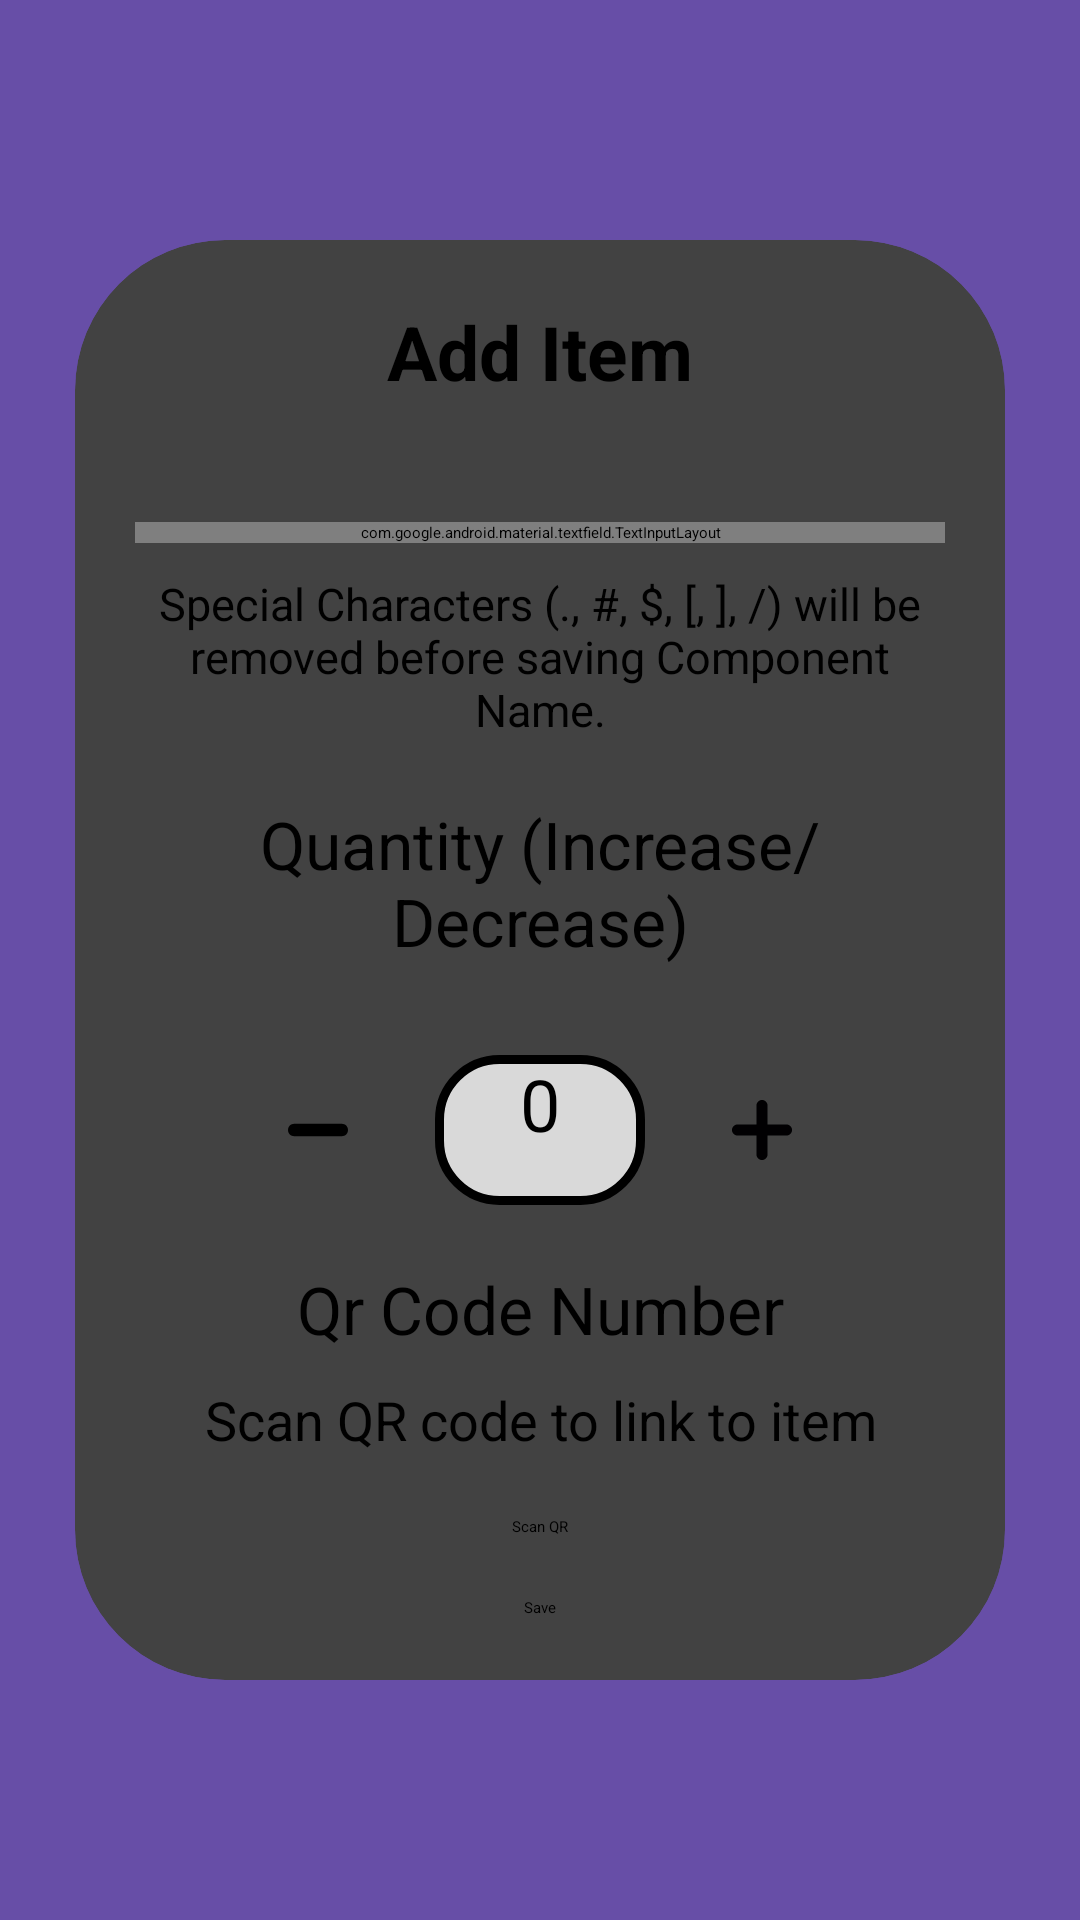

Screen size 1080*1920. Icon name, then its box in pixels as (x1, y1, x2, y2):
add symbol: (732, 1100, 792, 1160)
minus symbol: (288, 1124, 348, 1136)
